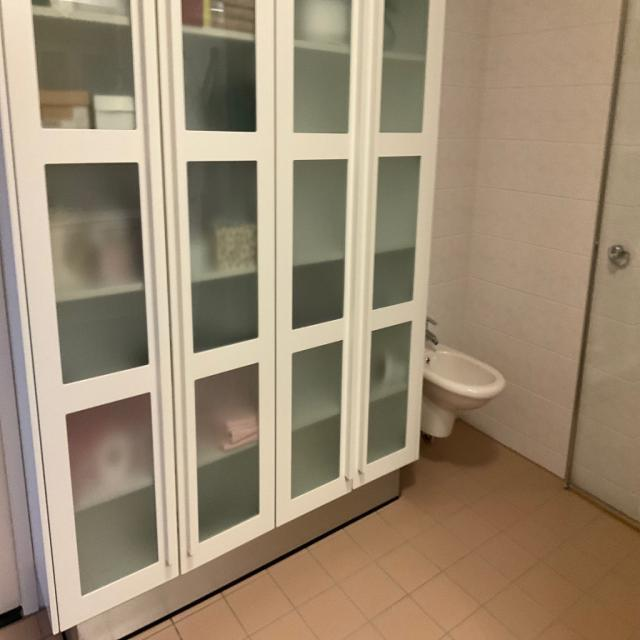douche: (559, 0, 640, 640)
toilet: (421, 310, 509, 456)
